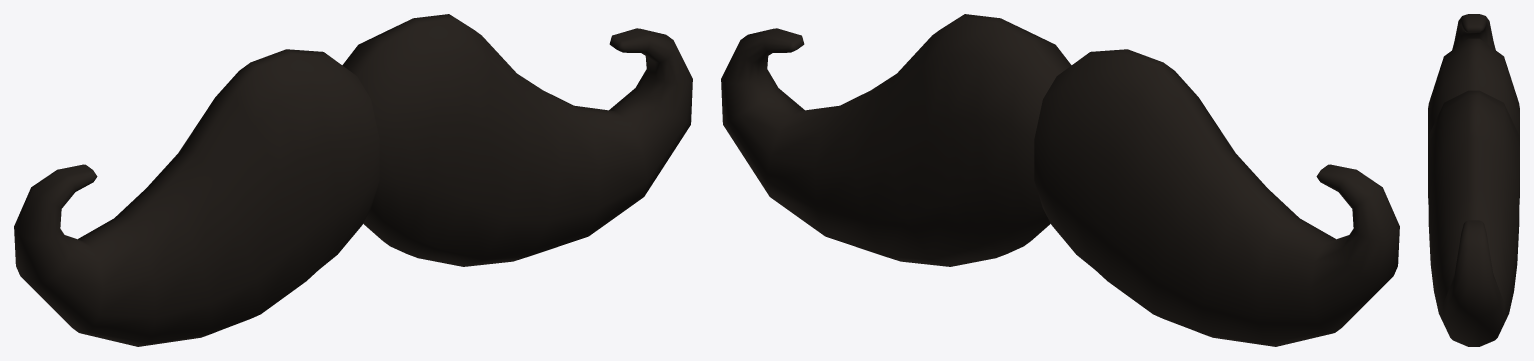
File: Beard_10_01.fbx
The picture shows the model from 3 angles, left to right: view 1: azimuth 30°, elevation 25°; view 2: azimuth 150°, elevation 25°; view 3: azimuth 270°, elevation 25°; orthographic projection. The views are drawn at different scales.
Visible parts, largest first — view 1: Beard_10_01; view 2: Beard_10_01; view 3: Beard_10_01.
Boxes of the visible parts, box(x1,y1,x2,y2) form: Beard_10_01: box(14, 14, 692, 346); Beard_10_01: box(721, 14, 1399, 346); Beard_10_01: box(1428, 14, 1519, 346).
Bounding box in the file's own units: 18.39 × 6.86 × 2.89.
